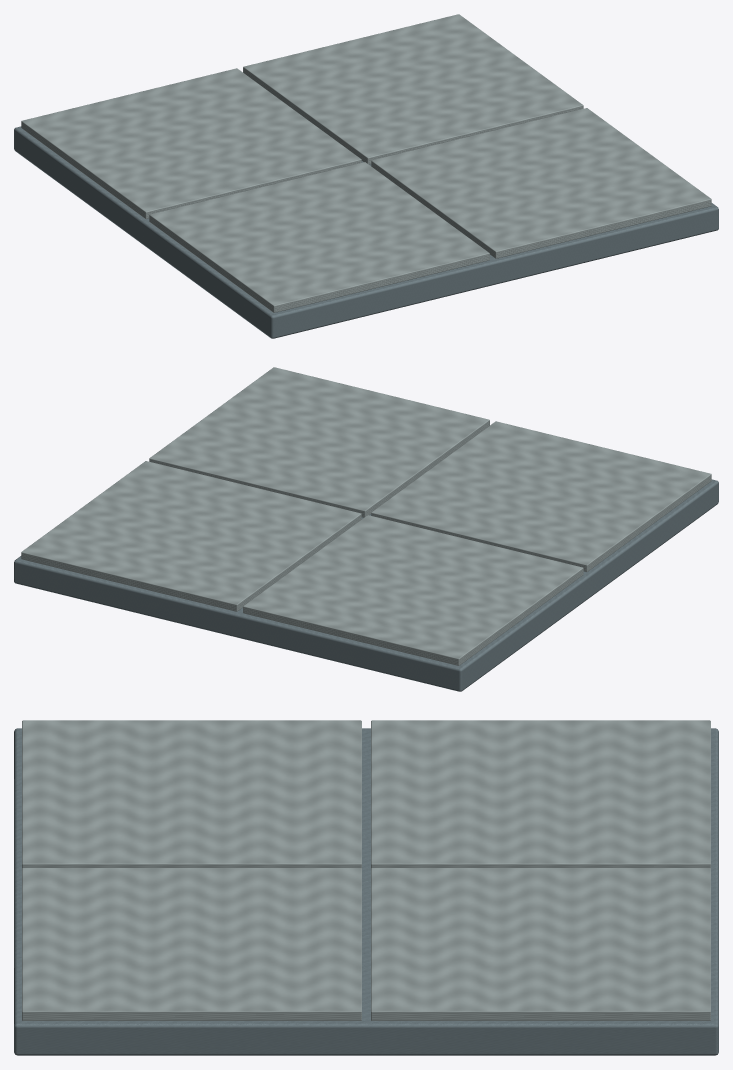
Rendered from dwarven-runeforge-dungeon-dwarven-runeforge-dungeon-fl-c77fc236__28576.glb.
3 renders of one model, top to bottom at view 1: azimuth 30°, elevation 25°; view 2: azimuth 150°, elevation 25°; view 3: azimuth 270°, elevation 25°, orthographic. The views are drawn at different scales.
Parts seen in each view (by area): view 1: dwarven-runeforge-dungeon-floor-bay; view 2: dwarven-runeforge-dungeon-floor-bay; view 3: dwarven-runeforge-dungeon-floor-bay.
Part boxes in pixels (x1,y1,x2,y2): dwarven-runeforge-dungeon-floor-bay: [14, 14, 718, 338]; dwarven-runeforge-dungeon-floor-bay: [14, 367, 718, 691]; dwarven-runeforge-dungeon-floor-bay: [14, 720, 718, 1055].
Size of the model in its own units: 4 by 0.2651 by 4.
2 materials, 2 textured.
